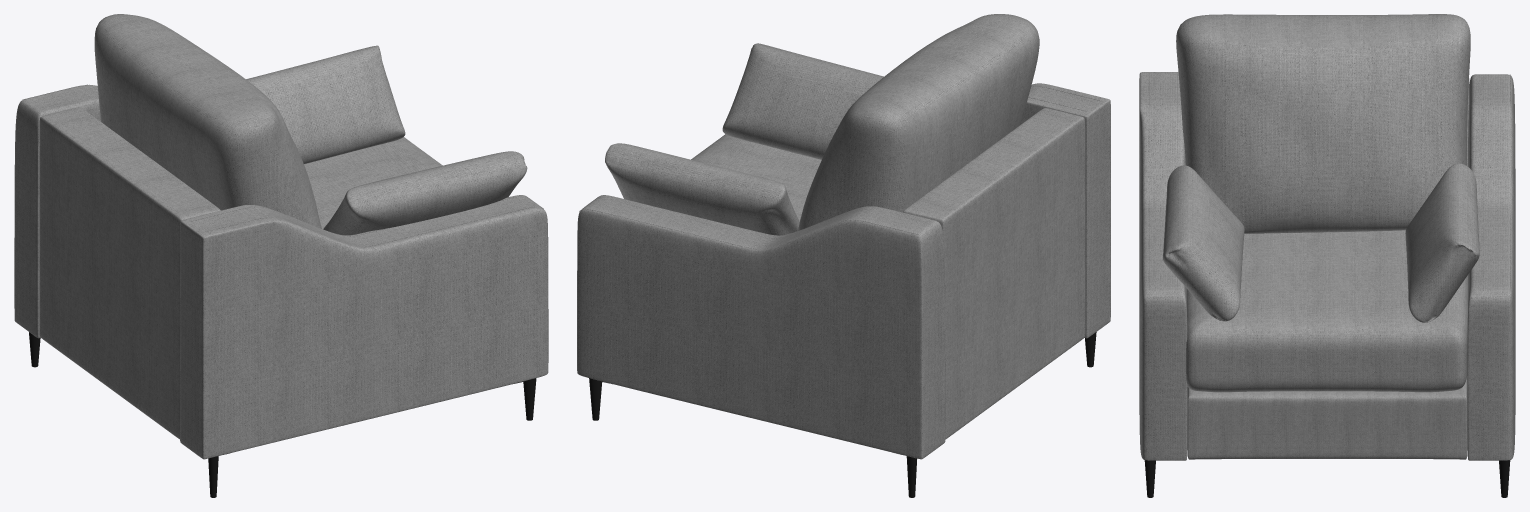
The model's file is maple.glb.
3 renders of one model, left to right at view 1: azimuth 30°, elevation 25°; view 2: azimuth 150°, elevation 25°; view 3: azimuth 270°, elevation 25°, orthographic.
Parts seen in each view (by area): view 1: object 10, object 826, Almofada de costa Kaori, Almofada de Braço Drt.-CW#1, Almofada de Braço Esq.-CW#1, object 9, Almofada de assento; view 2: object 9, object 826, Almofada de costa Kaori, Almofada de Braço Esq.-CW#1, Almofada de Braço Drt.-CW#1, object 10, Almofada de assento; view 3: Almofada de costa Kaori, Almofada de assento, Base, object 9, object 10, Almofada de Braço Esq.-CW#1, Almofada de Braço Drt.-CW#1.
Boxes of the visible parts, left/top/right/bottom form: object 10: left=180, top=195, right=548, bottom=459; object 826: left=39, top=107, right=220, bottom=439; Almofada de costa Kaori: left=94, top=14, right=321, bottom=228; Almofada de Braço Drt.-CW#1: left=246, top=45, right=405, bottom=163; Almofada de Braço Esq.-CW#1: left=323, top=151, right=527, bottom=235; object 9: left=14, top=85, right=100, bottom=338; Almofada de assento: left=304, top=137, right=442, bottom=229; object 9: left=577, top=195, right=945, bottom=459; object 826: left=903, top=108, right=1085, bottom=439; Almofada de costa Kaori: left=798, top=14, right=1039, bottom=230; Almofada de Braço Esq.-CW#1: left=722, top=43, right=883, bottom=159; Almofada de Braço Drt.-CW#1: left=605, top=143, right=799, bottom=235; object 10: left=1020, top=83, right=1110, bottom=338; Almofada de assento: left=691, top=134, right=821, bottom=221; Almofada de costa Kaori: left=1176, top=14, right=1470, bottom=233; Almofada de assento: left=1186, top=230, right=1467, bottom=392; Base: left=1187, top=374, right=1467, bottom=459; object 9: left=1467, top=74, right=1515, bottom=460; object 10: left=1139, top=72, right=1187, bottom=460; Almofada de Braço Esq.-CW#1: left=1163, top=165, right=1244, bottom=321; Almofada de Braço Drt.-CW#1: left=1405, top=163, right=1479, bottom=322.
Size of the model in its own units: 1.02 by 0.9723 by 0.94.
3 materials, 1 textured.
